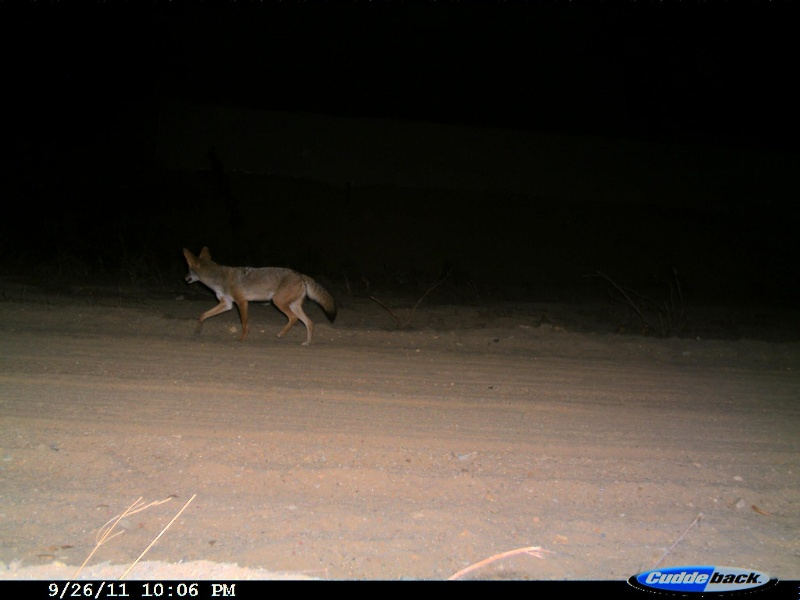coyote: (178, 241, 342, 348)
